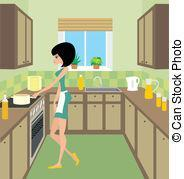bottle: (1, 90, 10, 121)
person: (37, 42, 80, 168)
pottedplant: (68, 53, 80, 71), (90, 56, 101, 71)
